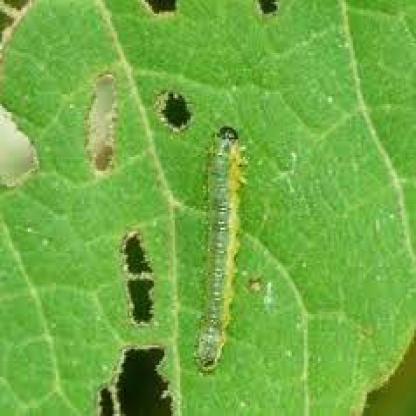sawfly: (190, 121, 253, 379)
